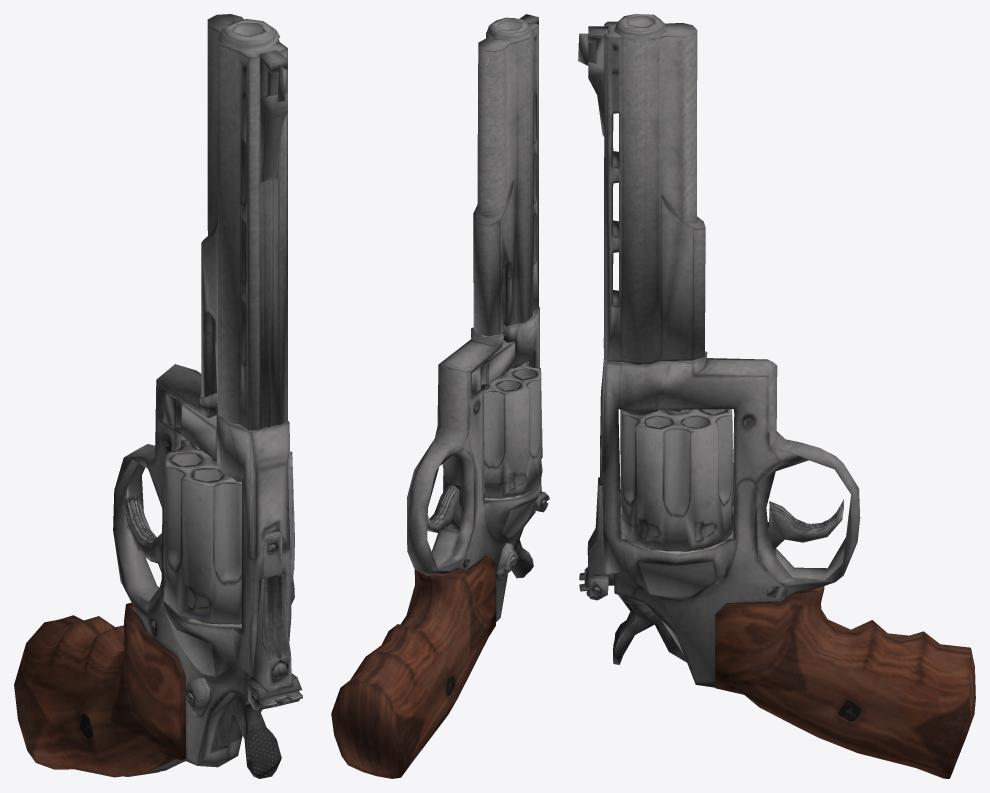
Rendered from Revolver_Long.fbx.
3 views of the same model, side by side, from view 1: azimuth 30°, elevation 25°; view 2: azimuth 150°, elevation 25°; view 3: azimuth 270°, elevation 25° (orthographic). The views are drawn at different scales.
Parts seen in each view (by area): view 1: Revolver_Long; view 2: Revolver_Long; view 3: Revolver_Long.
Boxes of the visible parts, bbox=[...] form: Revolver_Long: bbox=[14, 14, 302, 778]; Revolver_Long: bbox=[331, 14, 549, 778]; Revolver_Long: bbox=[578, 14, 975, 778].
Bounding box in the file's own units: 0.0314 × 0.2301 × 0.1107.
